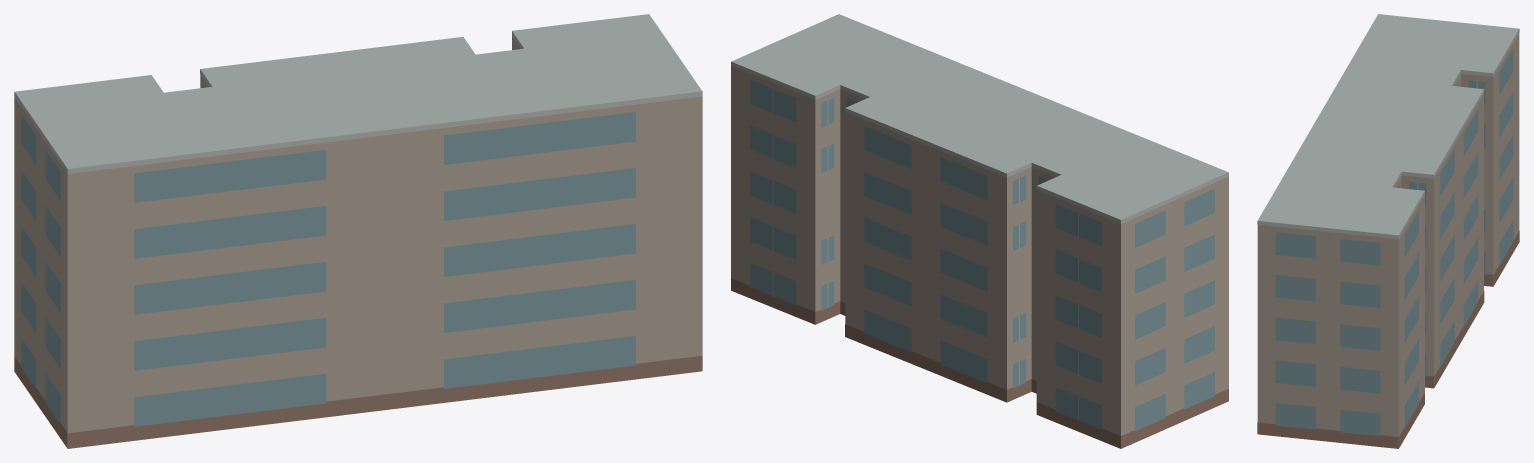
File: survey-upis-33027116.glb
3 renders of one model, left to right at view 1: azimuth 30°, elevation 25°; view 2: azimuth 150°, elevation 25°; view 3: azimuth 270°, elevation 25°, orthographic. The views are drawn at different scales.
Parts seen in each view (by area): view 1: survey-upis-33027116.tmp; view 2: survey-upis-33027116.tmp; view 3: survey-upis-33027116.tmp.
Part boxes in pixels (x1=…): survey-upis-33027116.tmp: x1=14, y1=14, x2=702, y2=448; survey-upis-33027116.tmp: x1=731, y1=14, x2=1228, y2=448; survey-upis-33027116.tmp: x1=1257, y1=14, x2=1519, y2=448.
Size of the model in its own units: 29.81 by 13.4 by 14.91.
